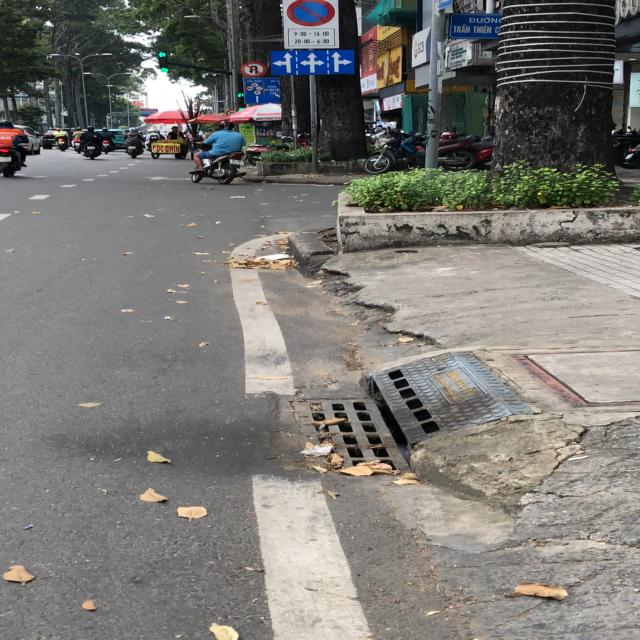Bien bao cam do xe: (282, 0, 340, 29)
Bien bao cam quay dau xe: (238, 60, 271, 79)
